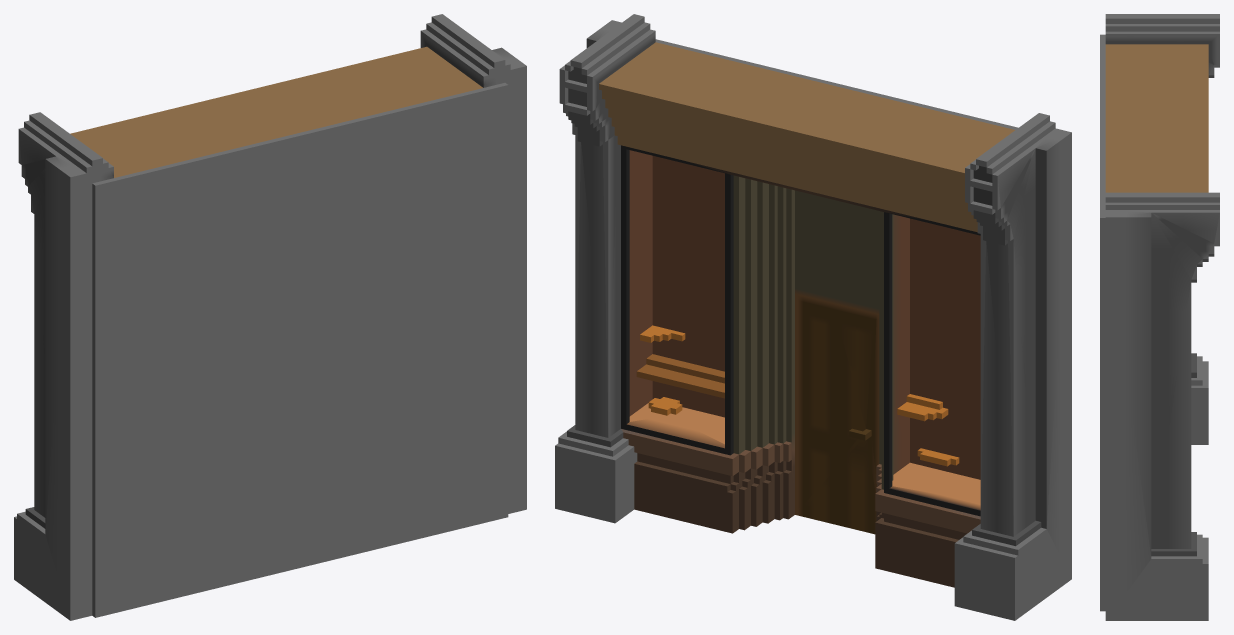
File: shop.dae
The picture shows the model from 3 angles, left to right: view 1: azimuth 30°, elevation 25°; view 2: azimuth 150°, elevation 25°; view 3: azimuth 270°, elevation 25°; orthographic projection. The views are drawn at different scales.
Parts seen in each view (by area): view 1: shop; view 2: shop; view 3: shop.
Part boxes in pixels (<box>): shop: <box>14,14,526,620</box>; shop: <box>555,14,1071,620</box>; shop: <box>1100,14,1219,620</box>.
Size of the model in its own units: 8.4 by 2.1 by 8.
1 material, 1 textured.
